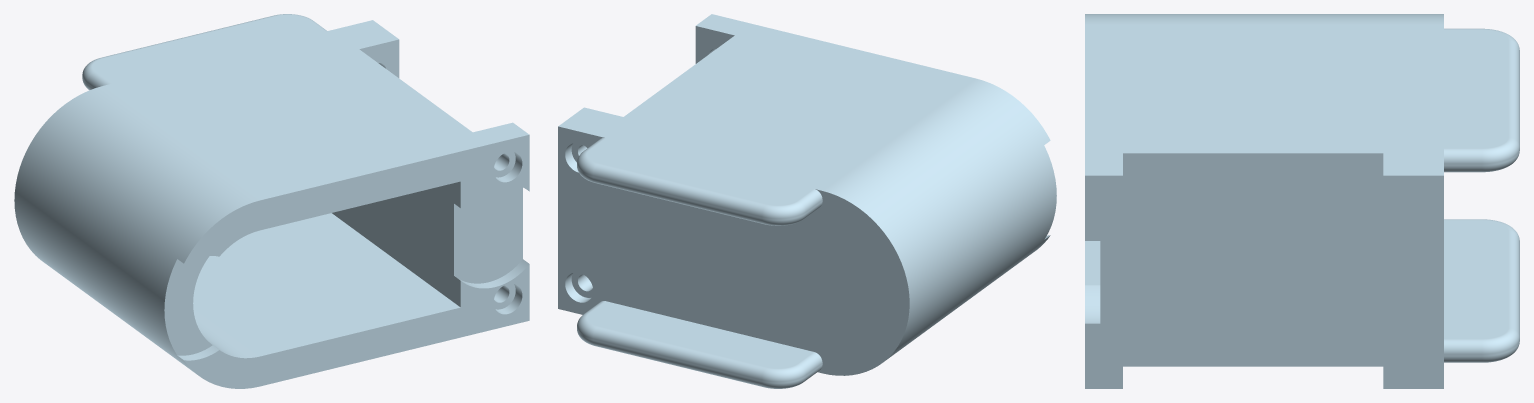
3 views of the same model, side by side, from view 1: azimuth 30°, elevation 25°; view 2: azimuth 150°, elevation 25°; view 3: azimuth 270°, elevation 25° (orthographic). The views are drawn at different scales.
Visible parts, largest first — view 1: SnakeTail; view 2: SnakeTail; view 3: SnakeTail.
Boxes of the visible parts, bbox=[...] form: SnakeTail: bbox=[14, 14, 529, 388]; SnakeTail: bbox=[558, 14, 1056, 388]; SnakeTail: bbox=[1085, 14, 1519, 388].
Bounding box in the file's own units: 0.0625 × 0.031 × 0.0573.
